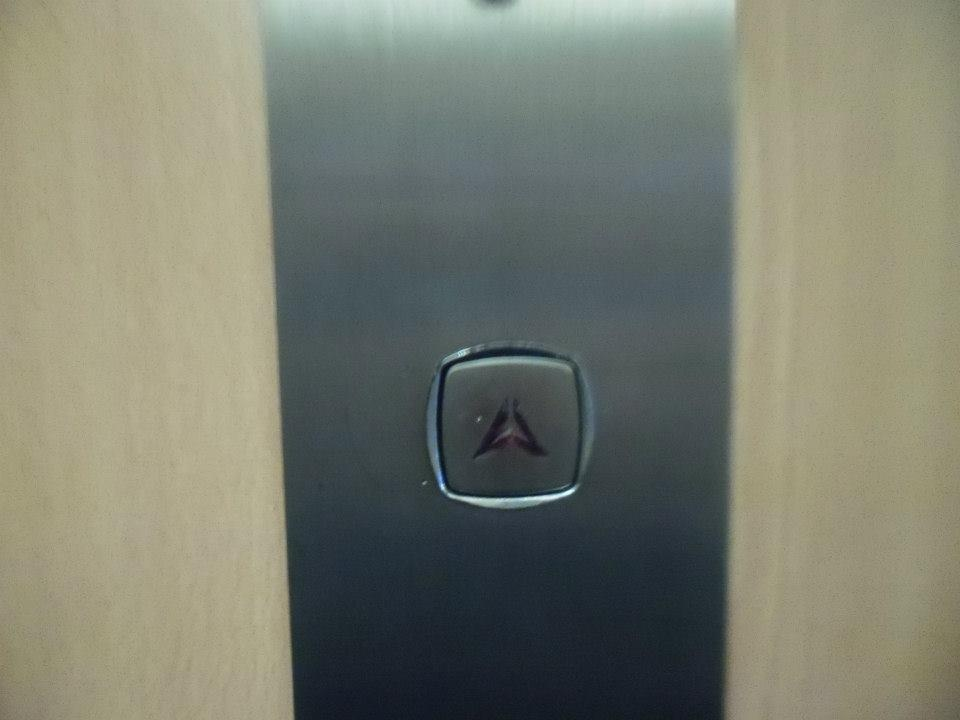up: (419, 333, 602, 516)
